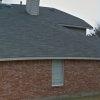Chimney: (22, 1, 45, 15)
